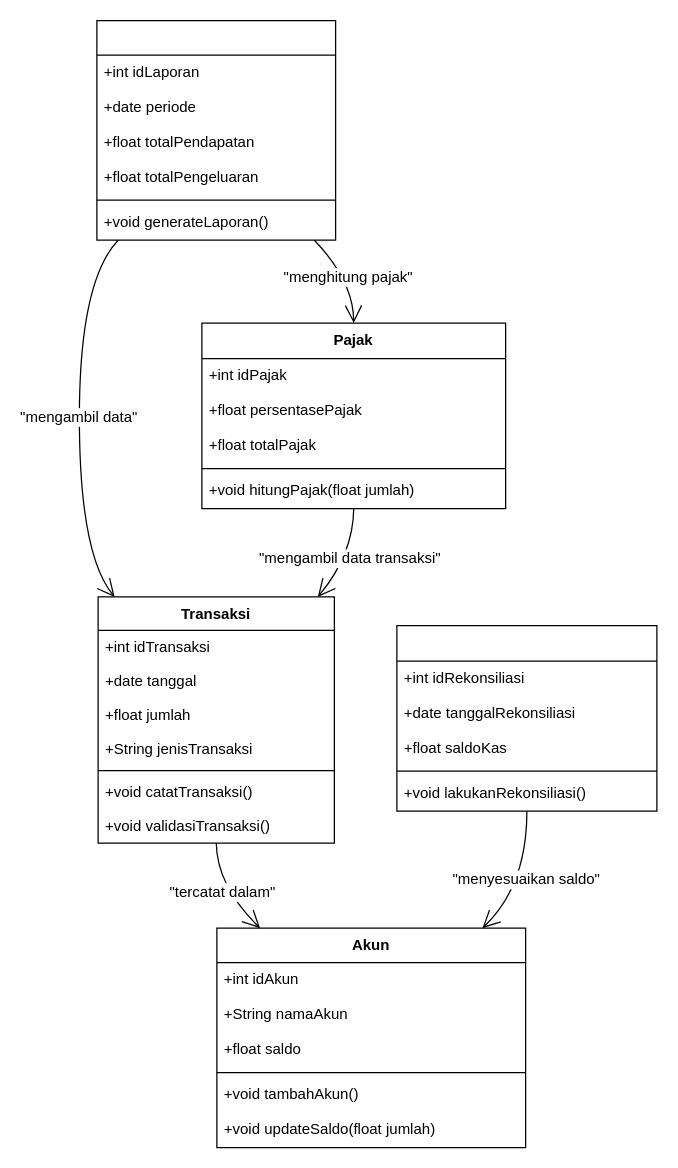
Some shapes in this 678 by 1168 pixel diagram are drawn without their labels. The shapes that lost their labels are listed below. From the top down, each one's box as (x1, y1, x2, y2) in pixels, then its label:
(96, 19, 336, 240): LaporanKeuangan
(396, 624, 657, 811): RekonsiliasiKas
